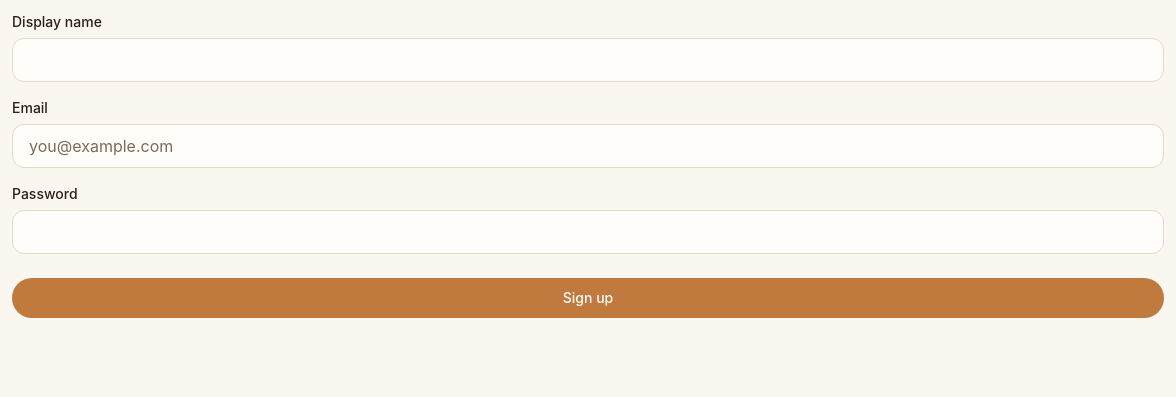
Test: RegisterForm › says sign-up is closed when the deployment refuses registration
Type "Ada" into the field labelled "Display name".
click(588, 60); type("Ada")  # box [12,38,1164,82]
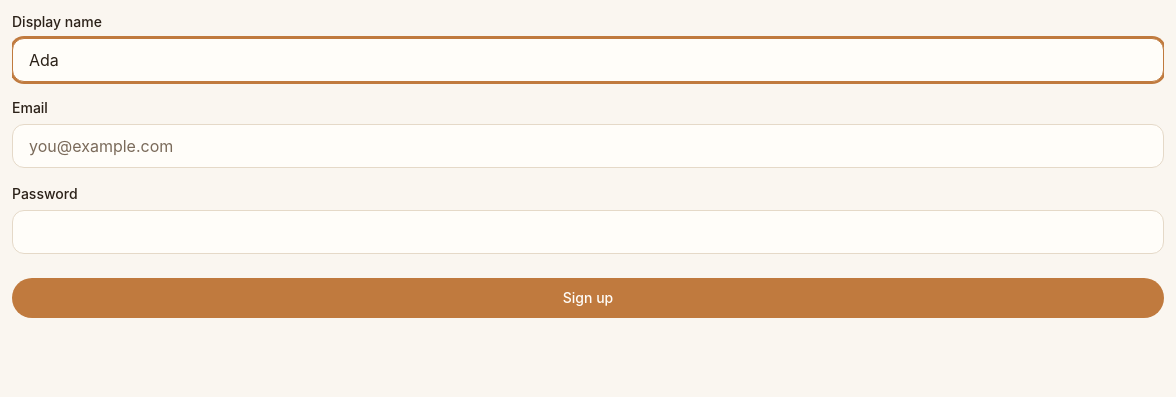
Type "ada@example.com" into the field labelled "Email".
click(588, 146); type("ada@example.com")  # box [12,124,1164,168]
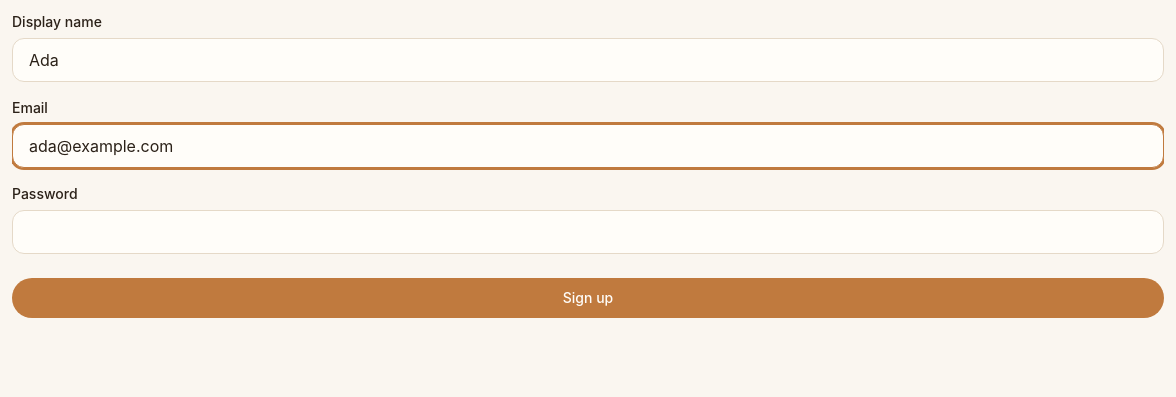
Type "espresso42" into the password field labelled "Password".
click(588, 232); type("espresso42")  # box [12,210,1164,254]
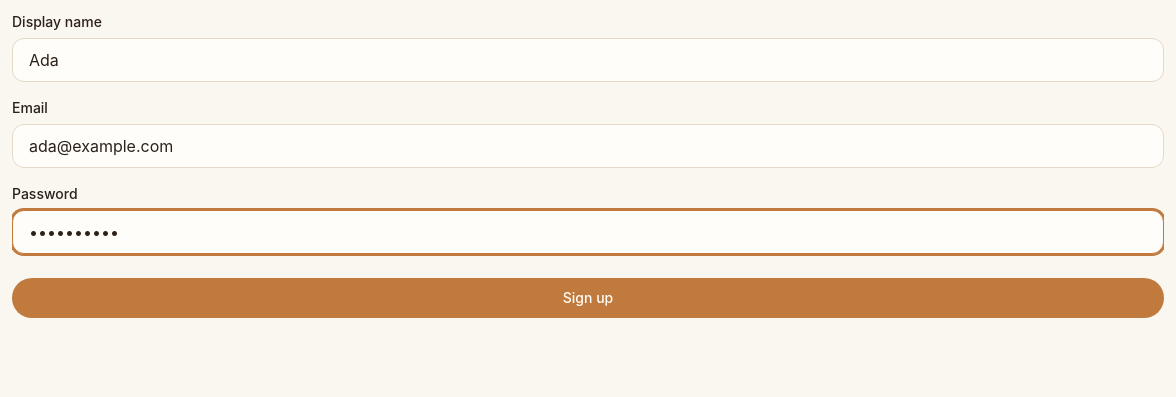
Click the button "Sign up".
click(588, 298)  # box [12,278,1164,318]
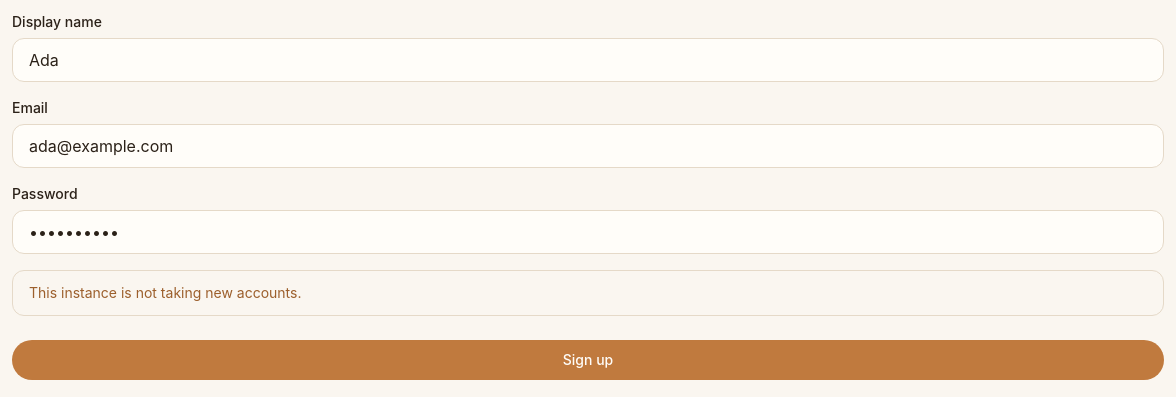
Expected: the text "This instance is not taking new accounts." is shown, [12,270,1164,316]
